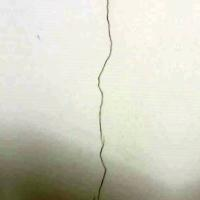crack: (76, 0, 124, 199)
